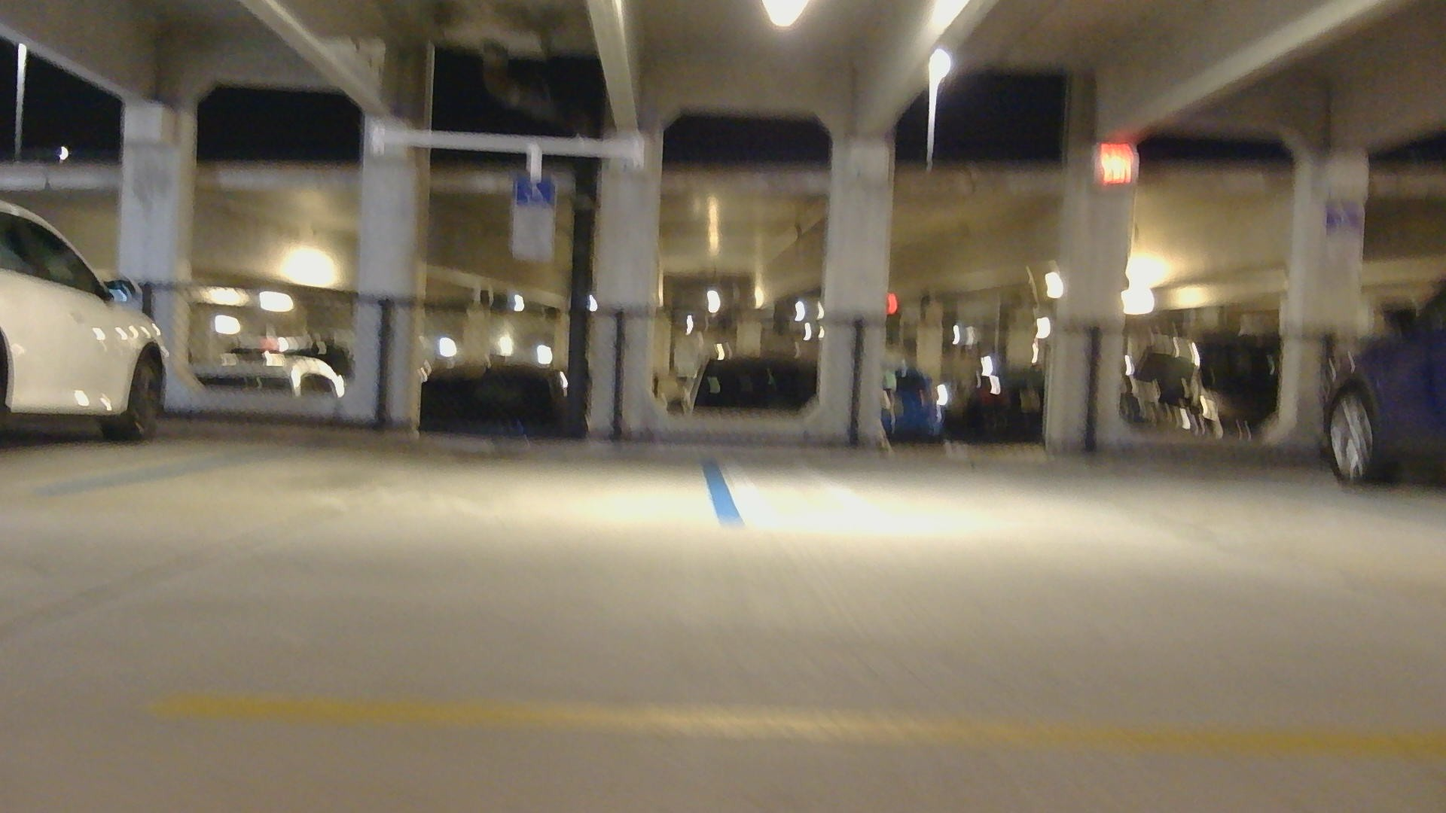empty_spot: (31, 311, 767, 532), (790, 363, 1445, 552)
